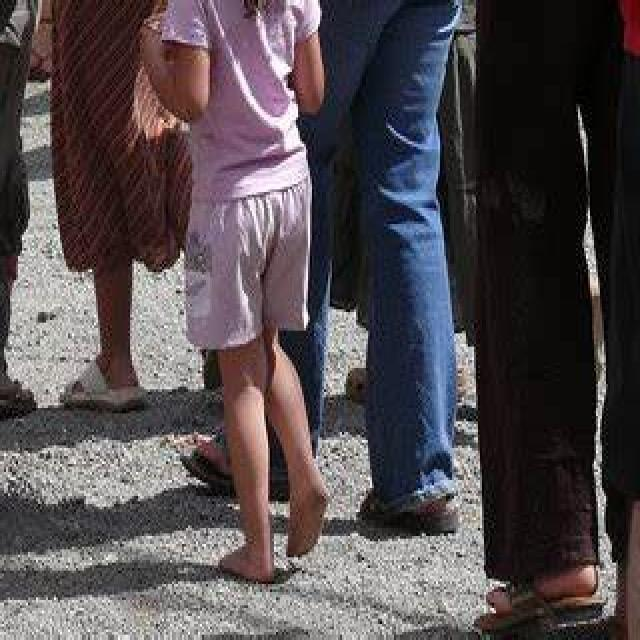No_Shoe: (58, 346, 147, 417), (205, 534, 286, 588)
